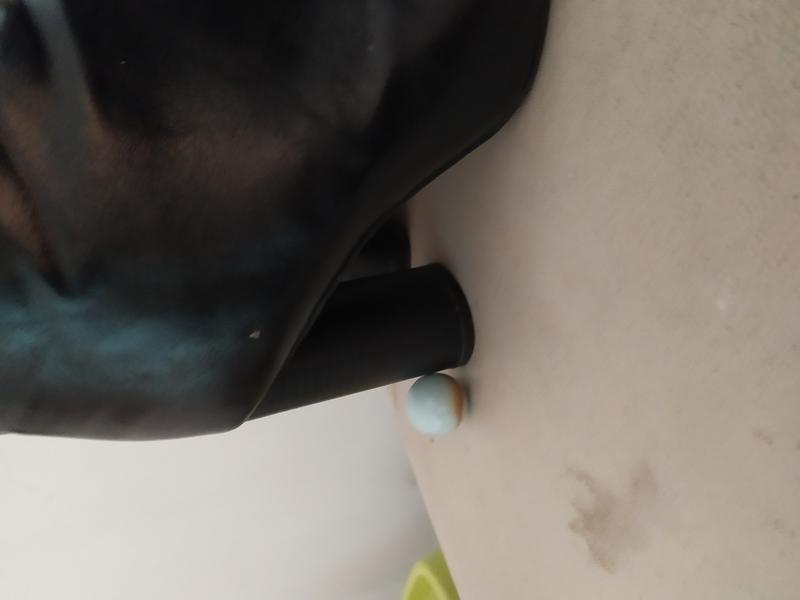Warning: (402, 370, 473, 439)
